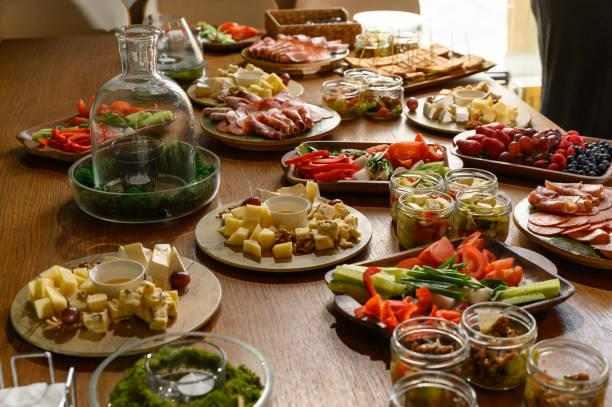Braised Crucian Carp: (323, 237, 569, 335), (10, 252, 222, 356), (196, 194, 367, 271), (448, 127, 609, 183), (286, 141, 456, 194), (198, 94, 333, 148), (405, 91, 527, 134)
